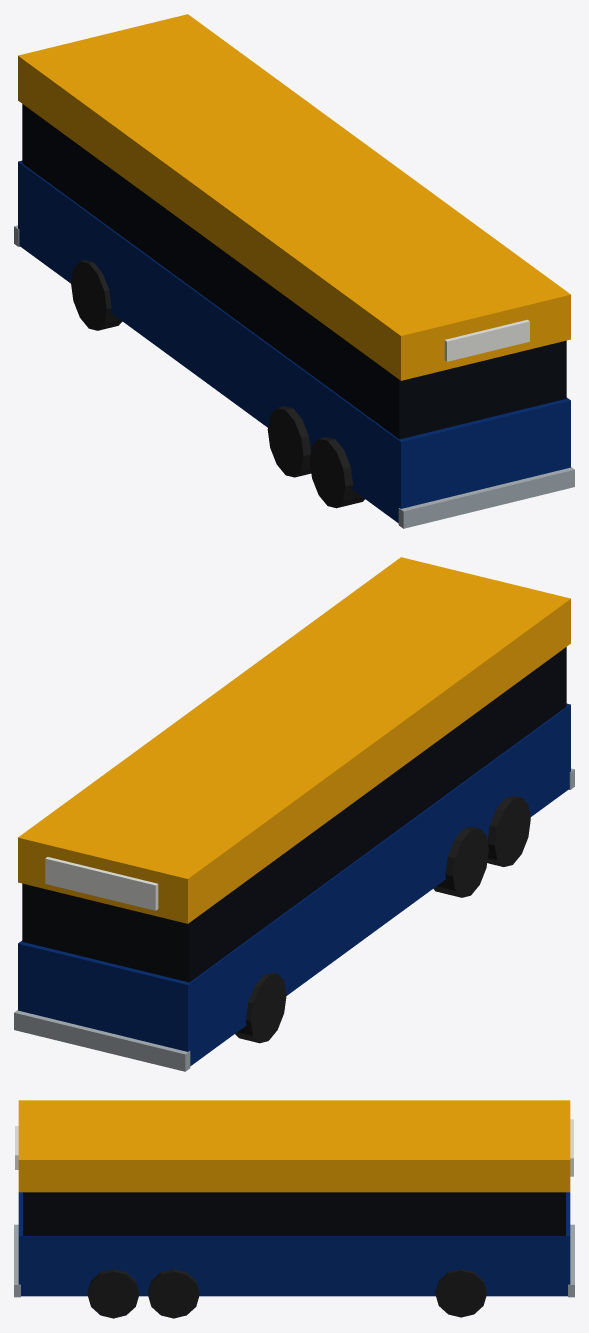
The model's file is kolkata_bus.fbx.
3 renders of one model, top to bottom at view 1: azimuth 30°, elevation 25°; view 2: azimuth 150°, elevation 25°; view 3: azimuth 270°, elevation 25°, orthographic. The views are drawn at different scales.
Parts seen in each view (by area): view 1: kolkata_bus; view 2: kolkata_bus; view 3: kolkata_bus.
Boxes of the visible parts, left/top/right/bottom form: kolkata_bus: left=14, top=14, right=574, bottom=528; kolkata_bus: left=14, top=557, right=574, bottom=1071; kolkata_bus: left=14, top=1100, right=574, bottom=1318.
Size of the model in its own units: 2.68 by 2.99 by 9.76.
